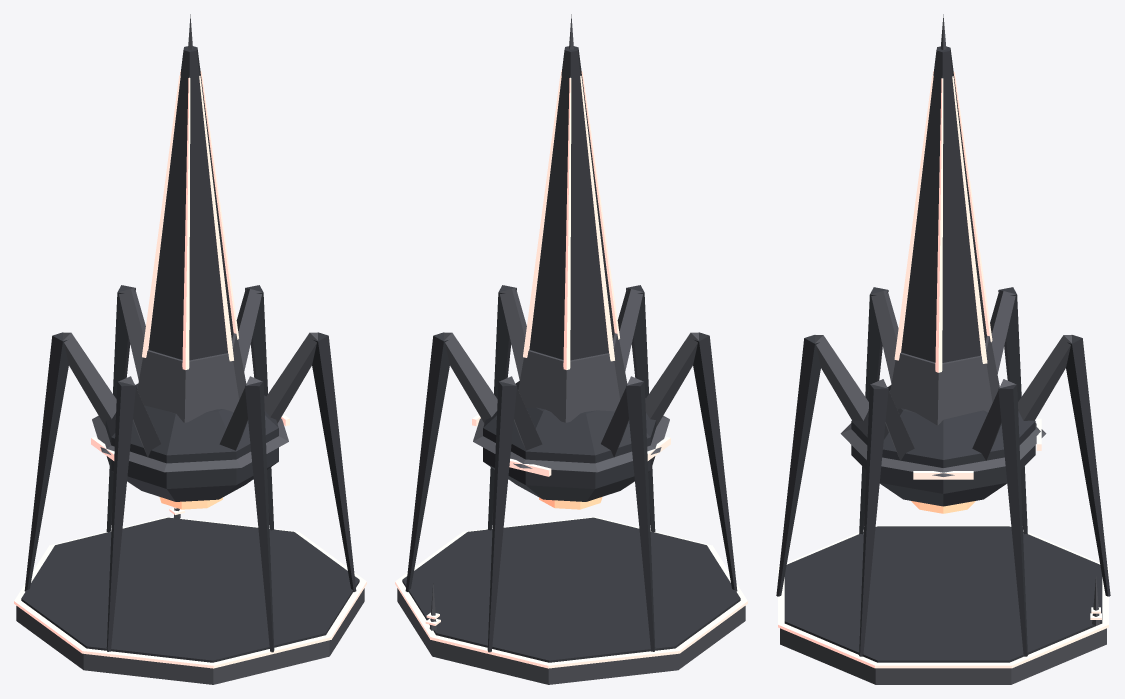
File: zone_high_4_t2.glb
3 views of the same model, side by side, from view 1: azimuth 30°, elevation 25°; view 2: azimuth 150°, elevation 25°; view 3: azimuth 270°, elevation 25° (orthographic).
Parts seen in each view (by area): view 1: zone_high_4_t2; view 2: zone_high_4_t2; view 3: zone_high_4_t2.
Part boxes in pixels (x1,y1,x2,y2): zone_high_4_t2: (14, 14, 366, 684); zone_high_4_t2: (395, 14, 747, 684); zone_high_4_t2: (776, 14, 1110, 684).
Bounding box in the file's own units: 27.35 × 54.84 × 27.6.
